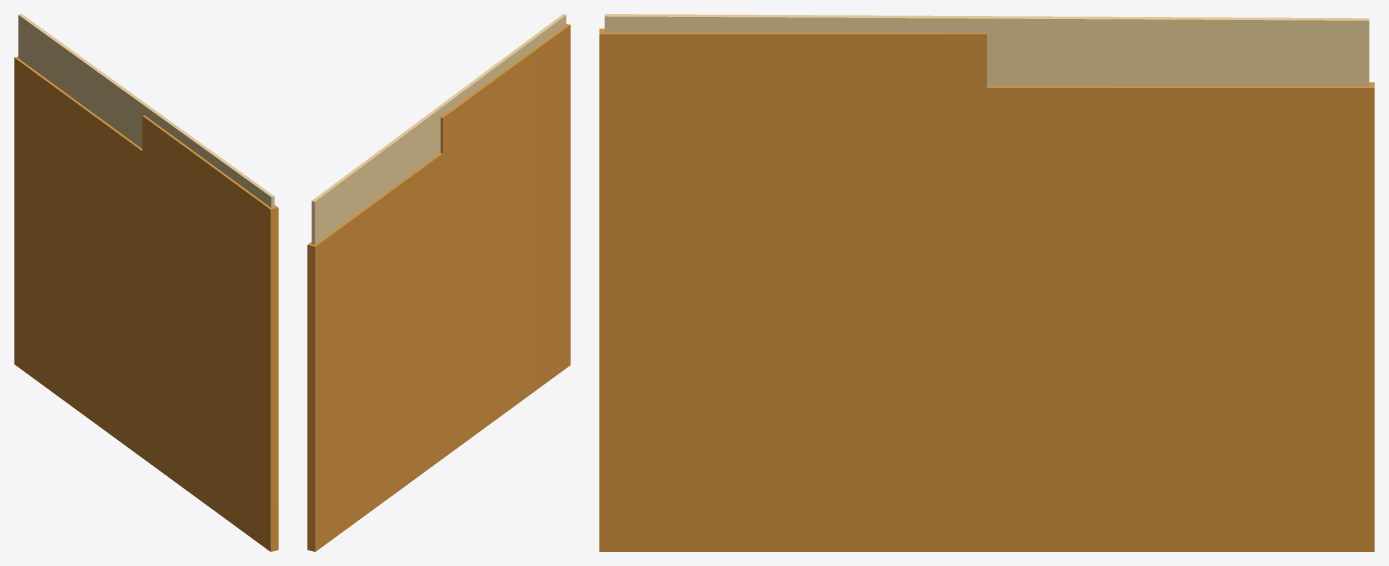
File: SM_Carpeta.fbx
The picture shows the model from 3 angles, left to right: view 1: azimuth 30°, elevation 25°; view 2: azimuth 150°, elevation 25°; view 3: azimuth 270°, elevation 25°; orthographic projection. The views are drawn at different scales.
Parts seen in each view (by area): view 1: Plane; view 2: Plane; view 3: Plane.
Part boxes in pixels (left/top/right/bottom): Plane: left=14, top=14, right=278, bottom=551; Plane: left=307, top=14, right=570, bottom=551; Plane: left=599, top=14, right=1374, bottom=551.
Size of the model in its own units: 0.9699 by 40.75 by 53.65.
